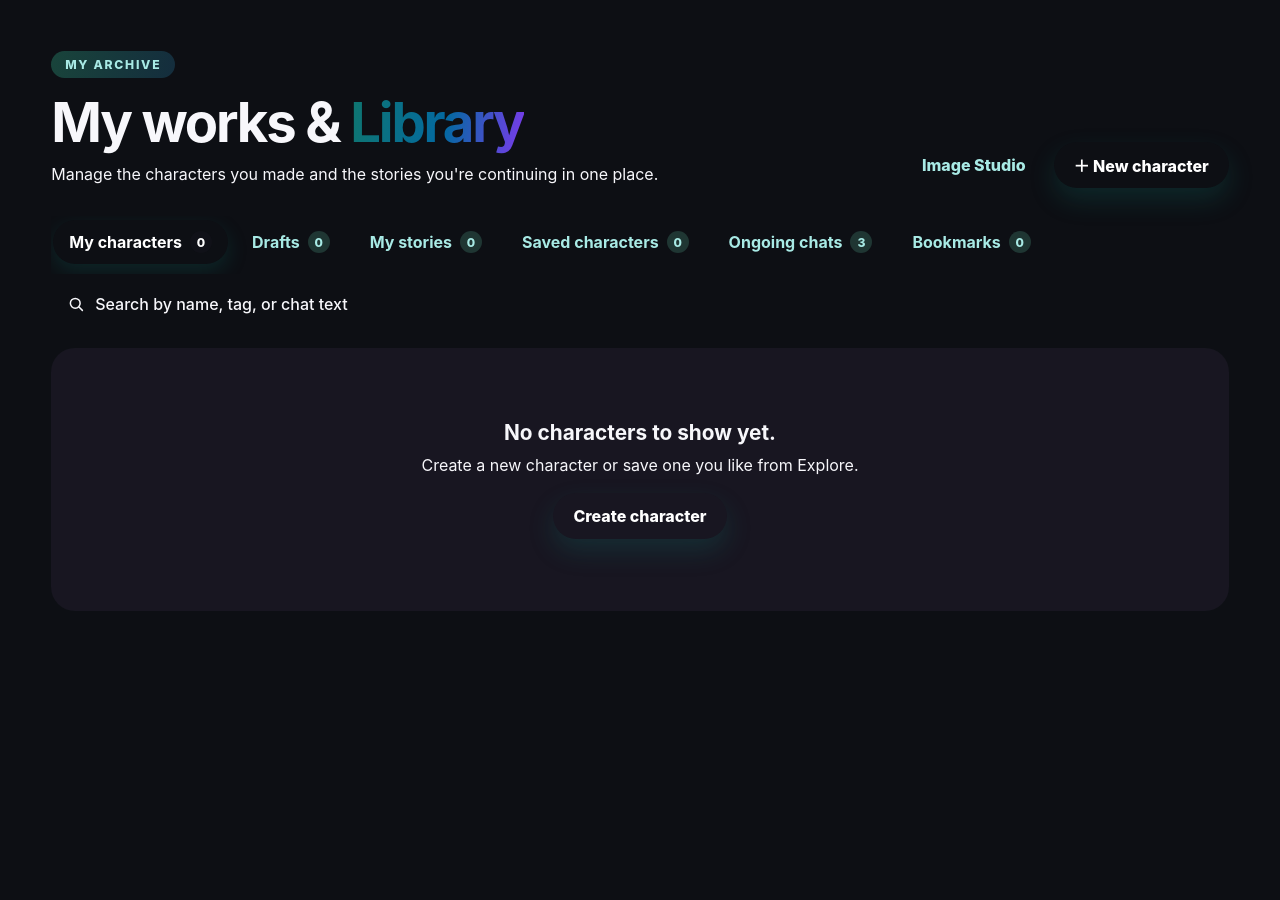
영어 화면에 남아 있던 한국어 › 보관함의 삭제 버튼은 이름표의 한국어가 아니라 표시 값으로 위험 동작 색을 받는다
Click the tab "Ongoing chats 3".
click(800, 242)  # box [713,220,888,264]
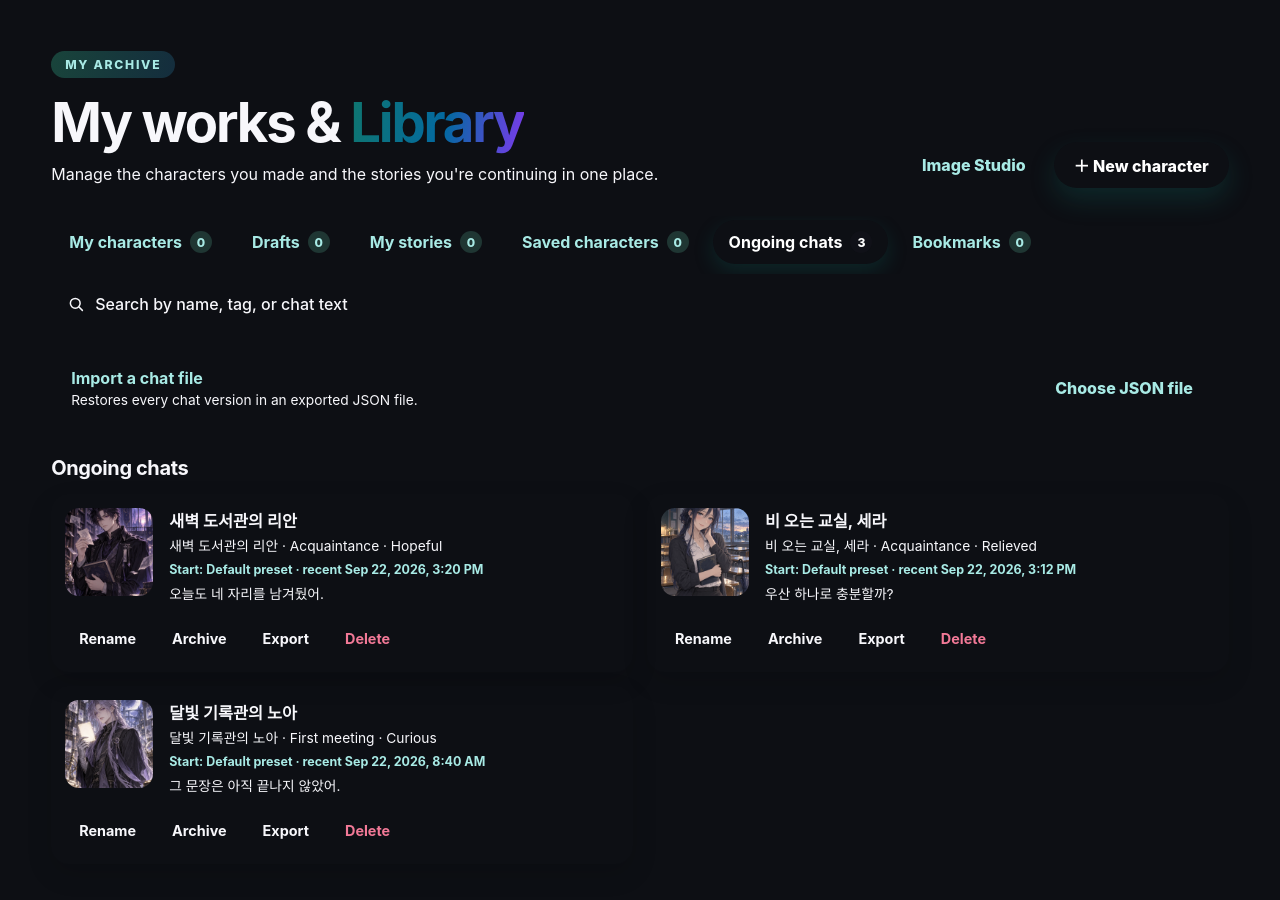
Now the button "Delete " below "오늘도 네 자리를 남겨뒀어." is shown, box [331,618,404,658]
